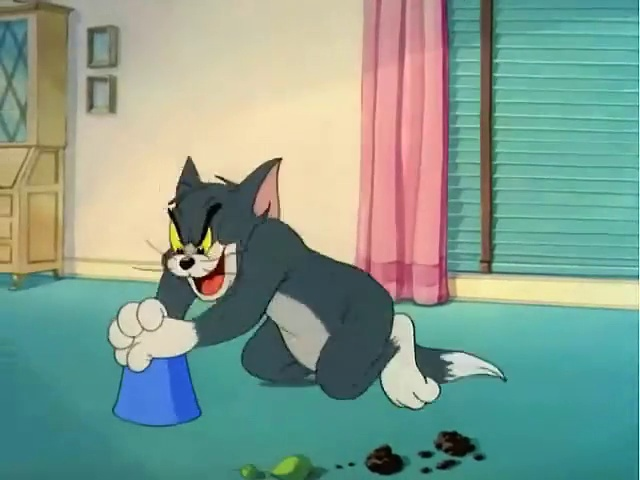tom: (106, 153, 498, 439)
